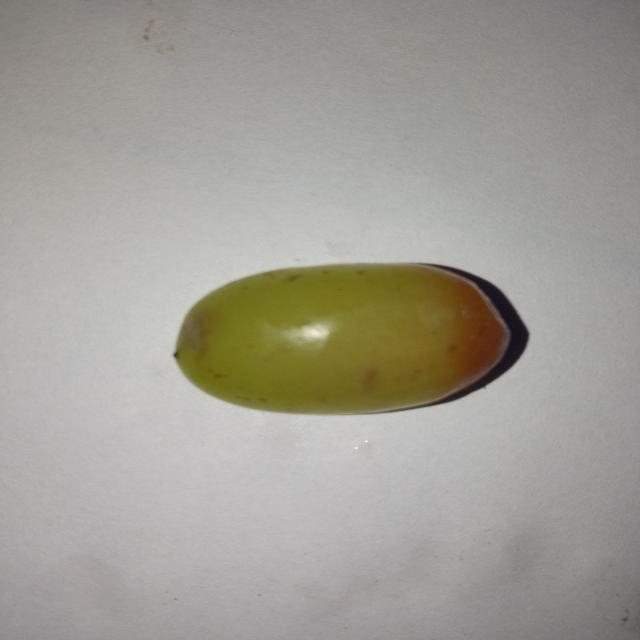fresh_grape: (174, 261, 514, 413)
